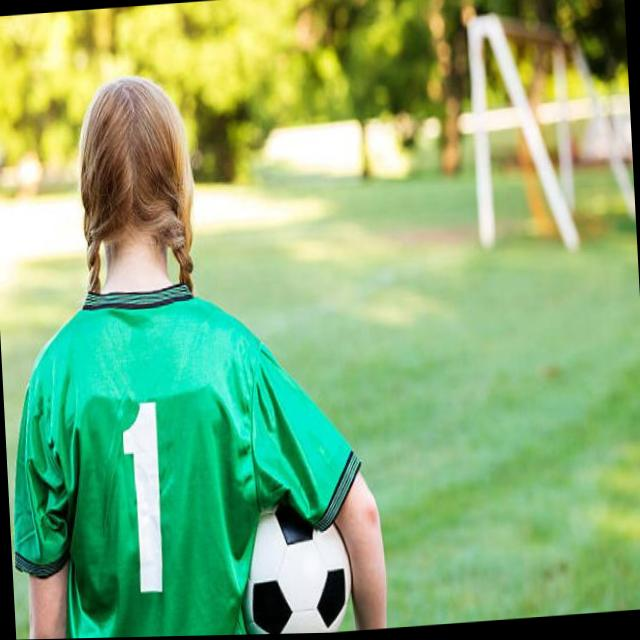no helmet: (58, 58, 204, 317)
